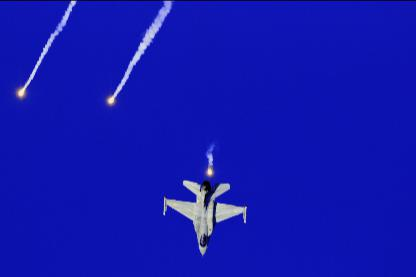F14: (163, 180, 247, 258)
